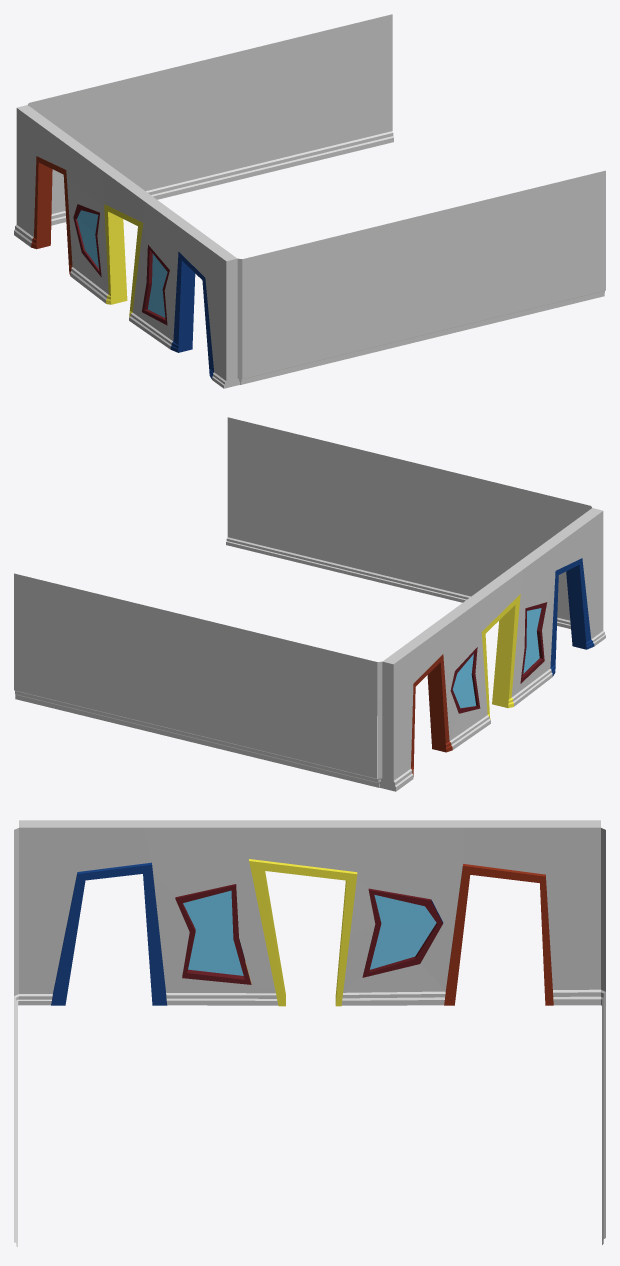
File: Mur_V3 1.fbx
The picture shows the model from 3 angles, top to bottom: view 1: azimuth 30°, elevation 25°; view 2: azimuth 150°, elevation 25°; view 3: azimuth 270°, elevation 25°; orthographic projection. The views are drawn at different scales.
Parts seen in each view (by area): view 1: Mur.côté_V3, Mur_Porte_V1; view 2: Mur.côté_V3, Mur_Porte_V1; view 3: Mur_Porte_V1, Mur.côté_V3.
Boxes of the visible parts, bbox=[...] form: Mur.côté_V3: bbox=[29, 14, 605, 384]; Mur_Porte_V1: bbox=[14, 103, 242, 388]; Mur.côté_V3: bbox=[14, 417, 590, 787]; Mur_Porte_V1: bbox=[377, 506, 605, 791]; Mur_Porte_V1: bbox=[14, 820, 605, 1006]; Mur.côté_V3: bbox=[14, 992, 605, 1246].
Bounding box in the file's own units: 1575 × 500 × 1526.
